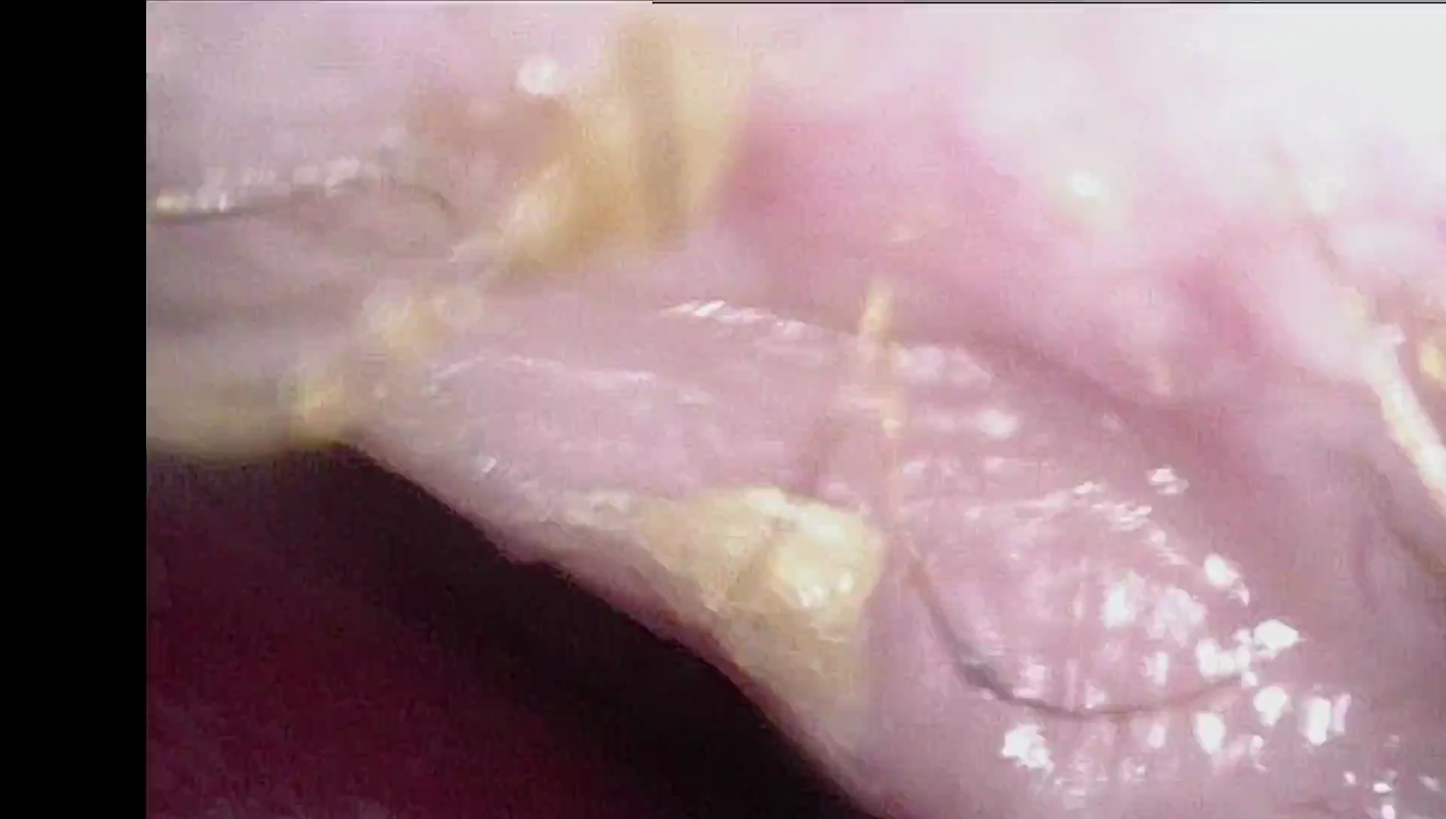close_wall: (737, 0, 1446, 419)
next: (420, 537, 882, 819)
